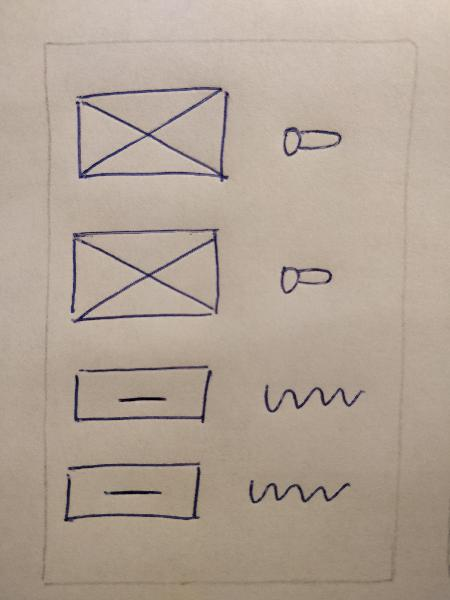button: (64, 357, 218, 431), (57, 454, 211, 528)
image: (69, 81, 237, 191), (61, 219, 229, 329)
switch: (276, 115, 348, 169), (270, 247, 342, 301)
text: (253, 370, 372, 430), (240, 467, 359, 517)
